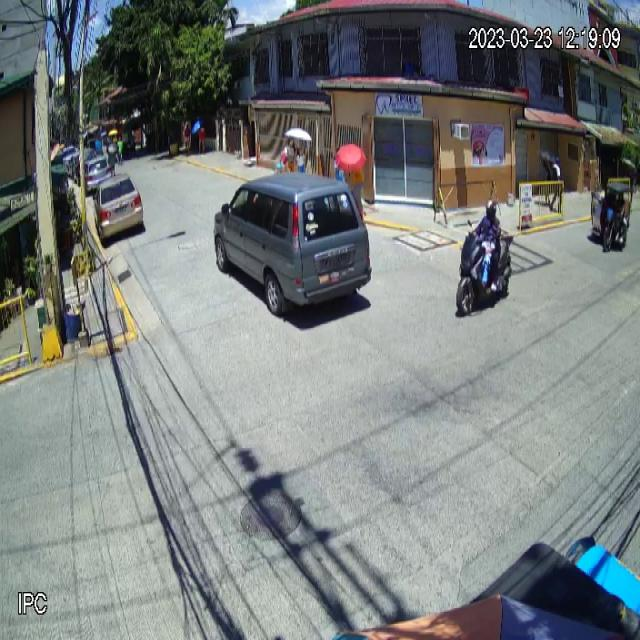Car: (213, 168, 373, 321)
Motorcycle: (455, 220, 514, 314)
